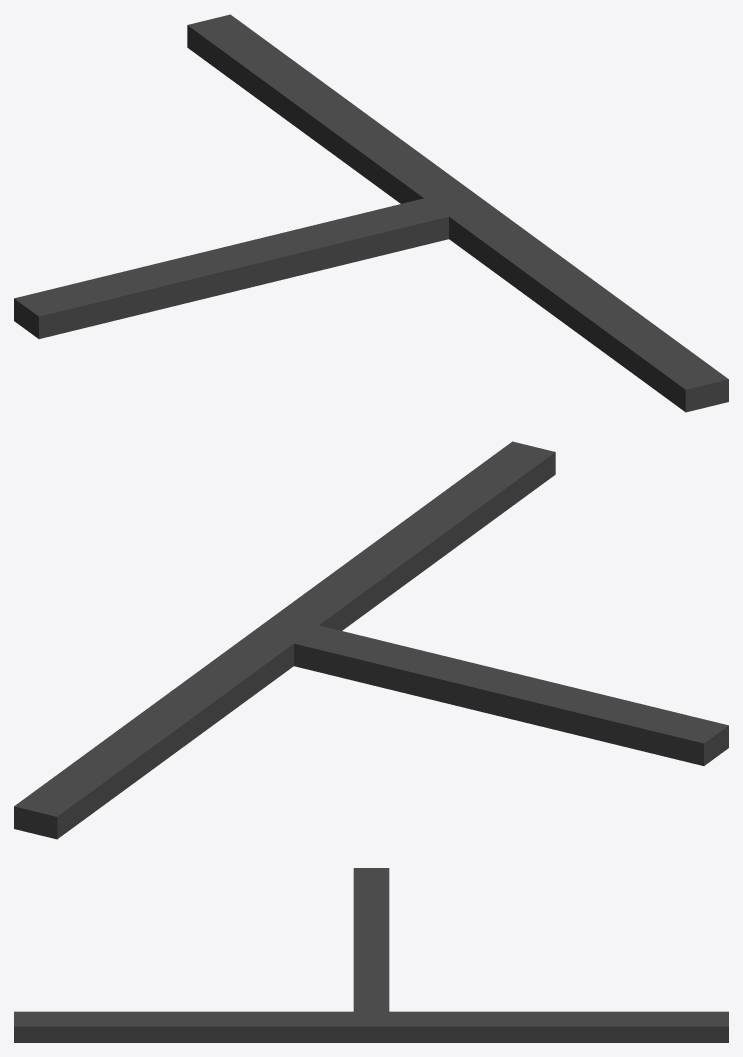
File: wire_T_turn.obj
The picture shows the model from 3 angles, top to bottom: view 1: azimuth 30°, elevation 25°; view 2: azimuth 150°, elevation 25°; view 3: azimuth 270°, elevation 25°; orthographic projection. The views are drawn at different scales.
Bounding box in the file's own units: 2.1 × 0.1 × 4.
Materials: 1 (1 with a texture image).
